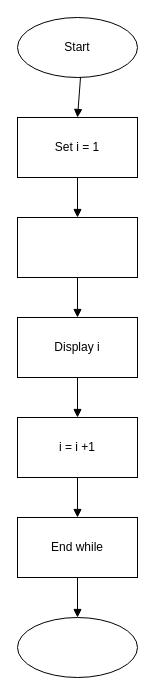
Some shapes in this 155 by 695 pixel diagram are drawn without their labels. Each missing label, with the centre of its shape:
"End" belongs at point (77, 647).
"While i <= 10" belongs at point (77, 247).
